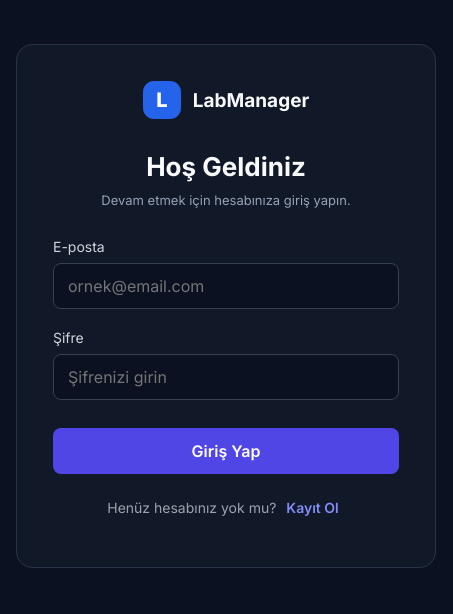
Test: Auth component › displays invalid credentials error
This screenshot has width=453, height=614.
Type "test@example.com" into the field labelled "E-posta" at (226, 286), box [53,263,399,309]
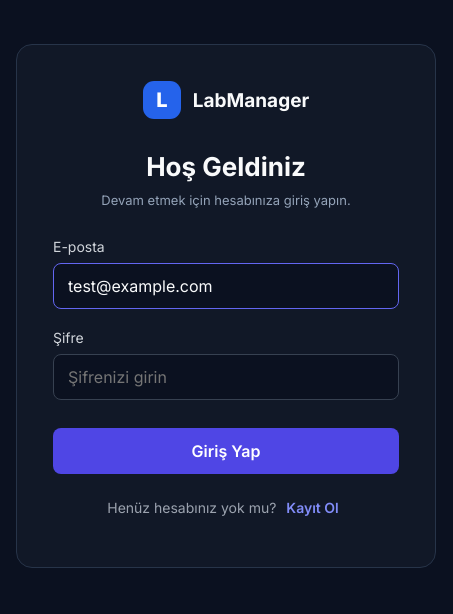
Type "TestPassword123" into the password field labelled "Şifre" at (226, 377), box [53,354,399,400]
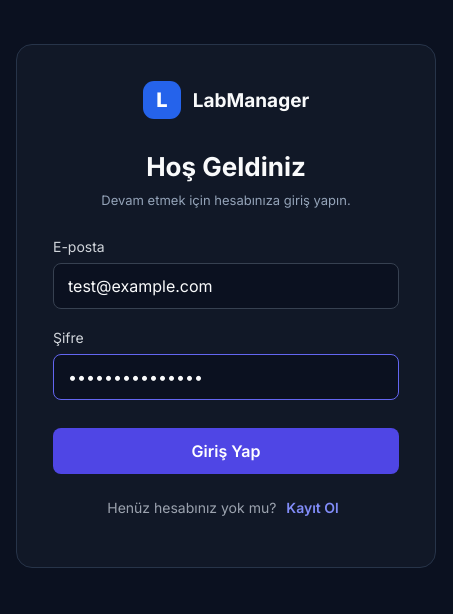
Click the button "Giriş Yap" at (226, 451), box [53,428,399,474]
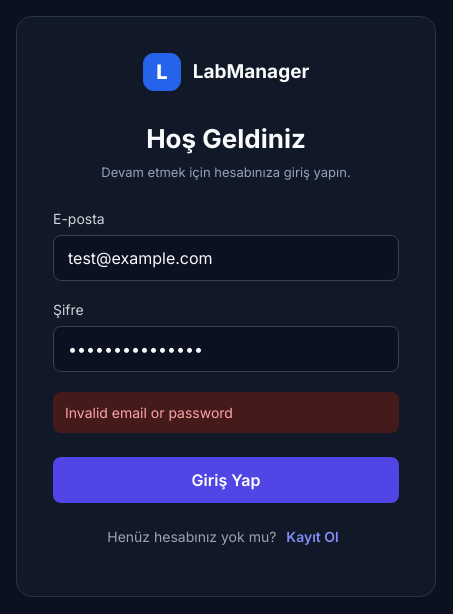
Expected: the text "Invalid email or password" is shown, [53,392,399,432]
